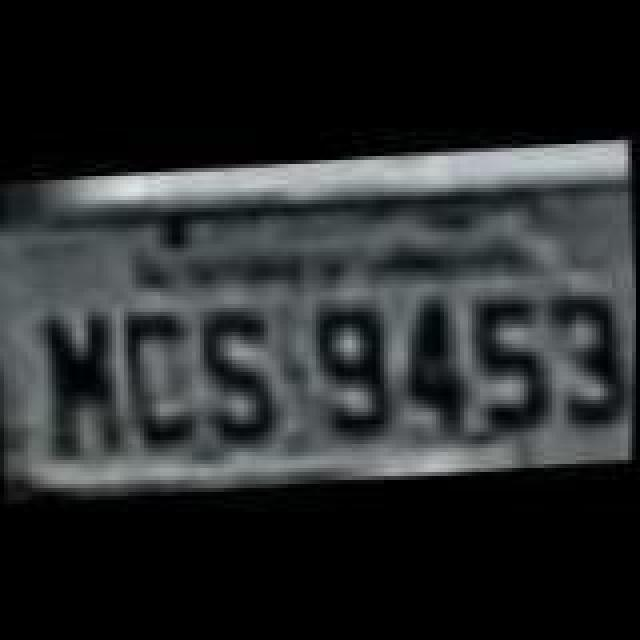3: (542, 278, 634, 434)
4: (392, 284, 480, 440)
5: (464, 288, 560, 440)
9: (308, 294, 396, 442)
C: (112, 306, 212, 458)
M: (34, 304, 130, 464)
S: (198, 302, 290, 446)
